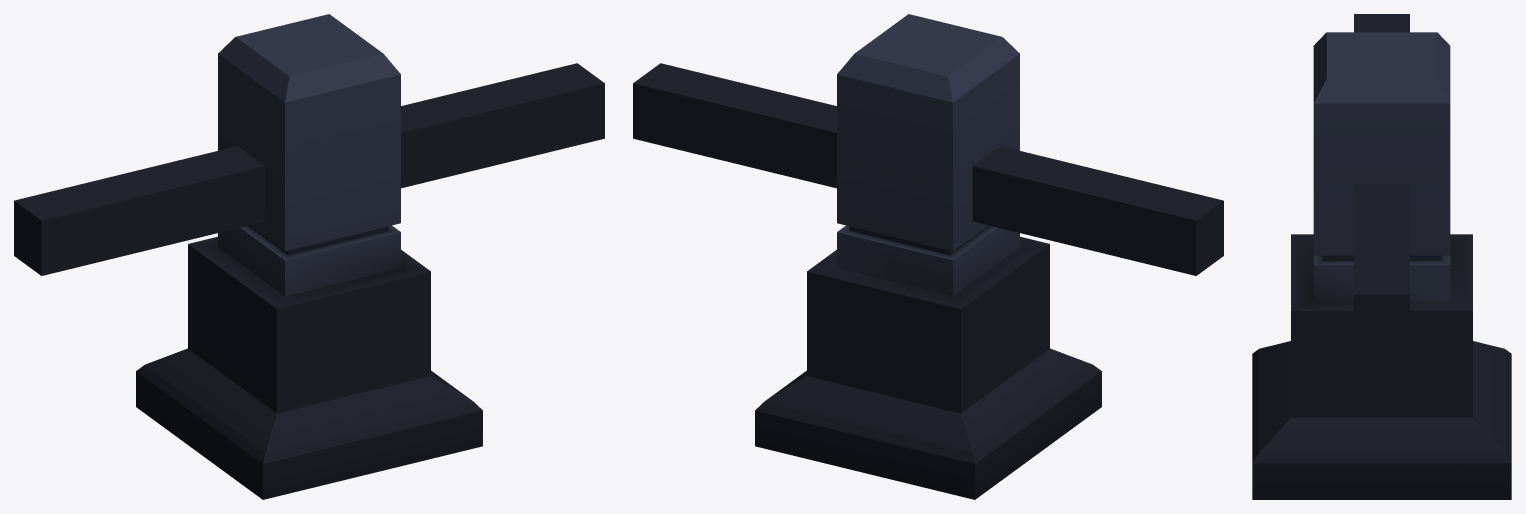
File: pq_muret.glb
The picture shows the model from 3 angles, left to right: view 1: azimuth 30°, elevation 25°; view 2: azimuth 150°, elevation 25°; view 3: azimuth 270°, elevation 25°; orthographic projection. The views are drawn at different scales.
Parts seen in each view (by area): view 1: Fence_Straight_Modular; view 2: Fence_Straight_Modular; view 3: Fence_Straight_Modular.
Boxes of the visible parts, x1=… form: Fence_Straight_Modular: x1=14, y1=14, x2=604, y2=499; Fence_Straight_Modular: x1=633, y1=14, x2=1223, y2=499; Fence_Straight_Modular: x1=1252, y1=14, x2=1511, y2=499.
Size of the model in its own units: 2 by 1.29 by 0.7812.
